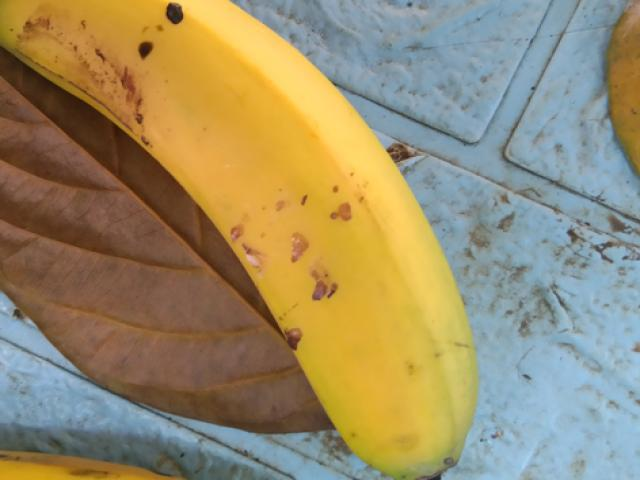ripe: (0, 0, 486, 463)
